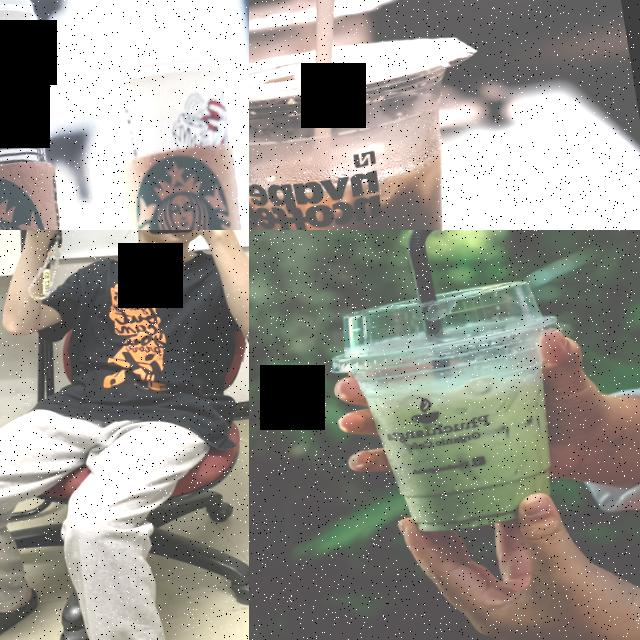cup: (315, 273, 585, 546), (249, 23, 515, 230), (87, 20, 249, 230), (0, 0, 99, 230)
